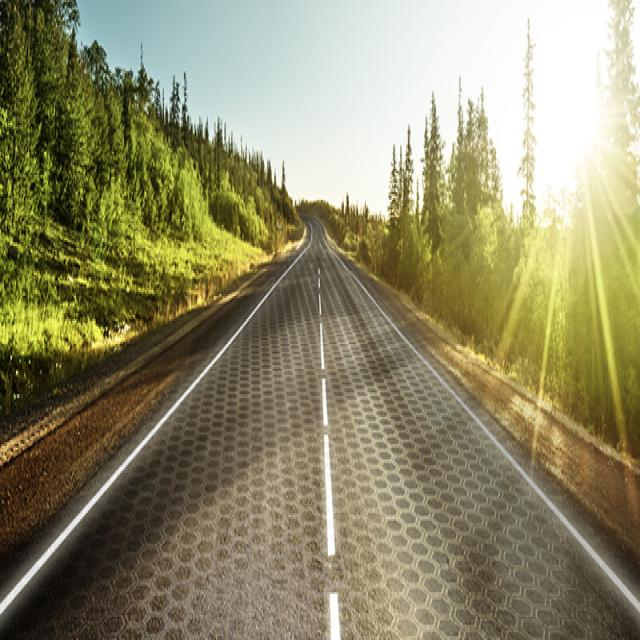Clean road: (3, 275, 635, 640)
